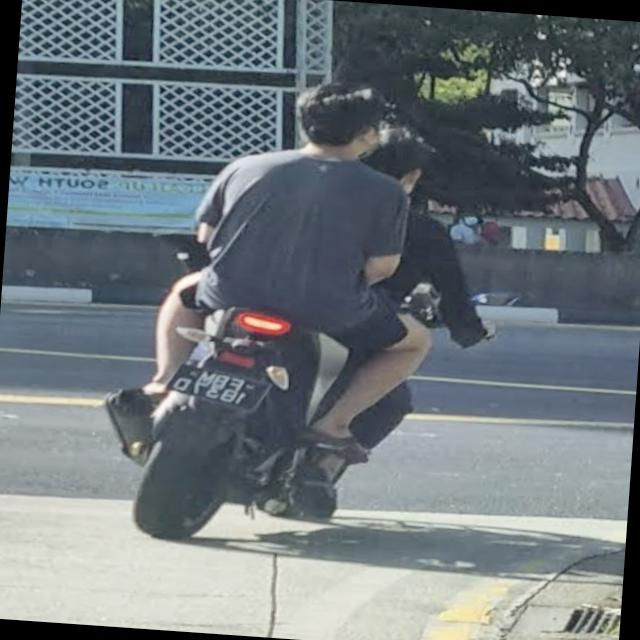WithoutHelmet: (139, 73, 450, 469), (348, 132, 510, 351)
